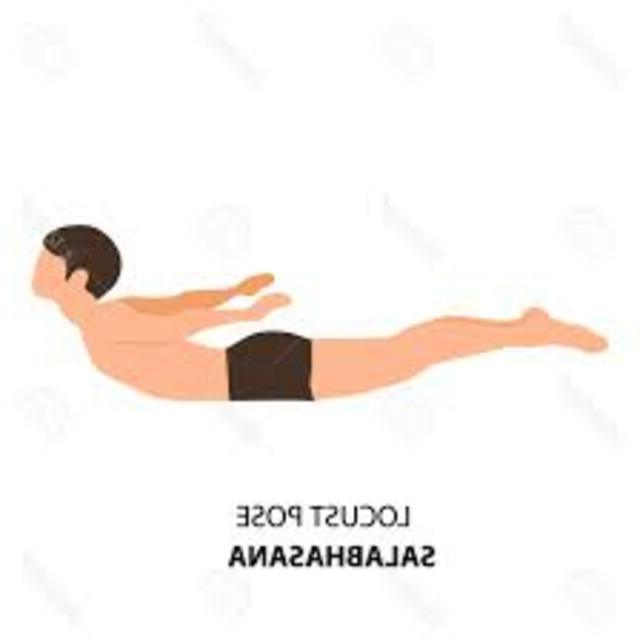Locust_Pose: (31, 223, 612, 408)
